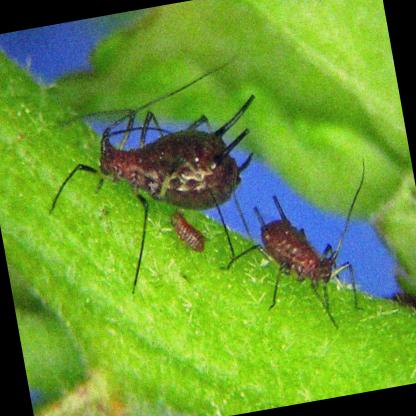uroleucon compositae: (77, 92, 259, 212)
